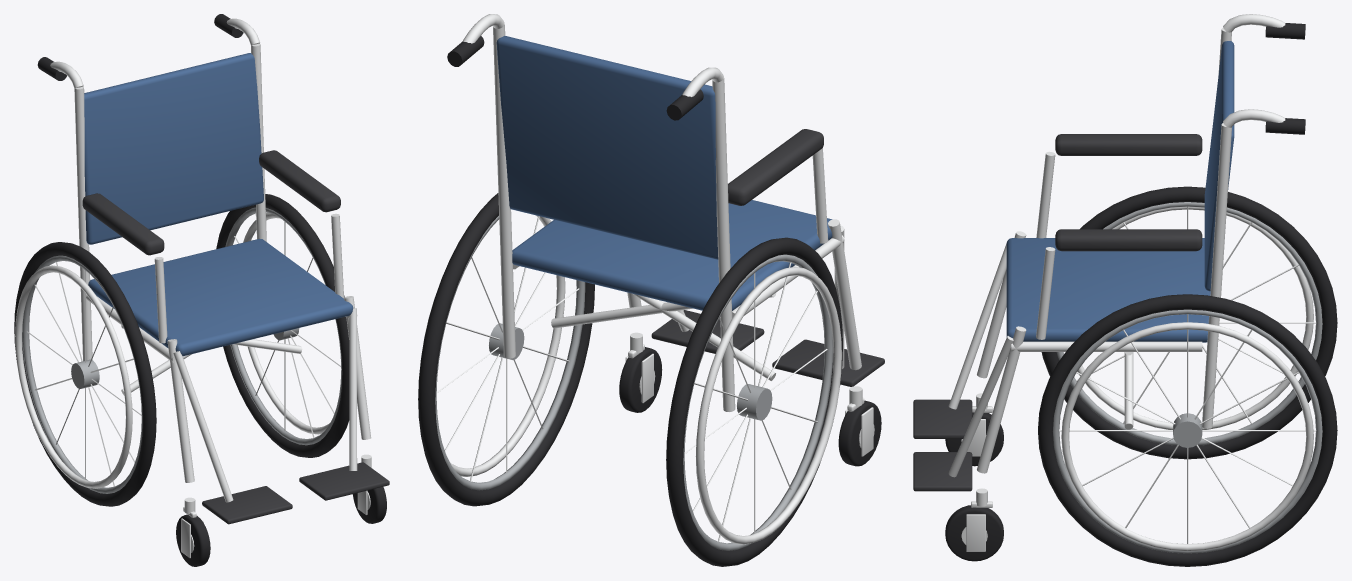
Rendered from fauteuil_roulant.glb.
The picture shows the model from 3 angles, left to right: view 1: azimuth 30°, elevation 25°; view 2: azimuth 150°, elevation 25°; view 3: azimuth 270°, elevation 25°; orthographic projection. The views are drawn at different scales.
Parts seen in each view (by area): view 1: fauteuil_roulant; view 2: fauteuil_roulant; view 3: fauteuil_roulant.
Part boxes in pixels (x1,y1,x2,y2): fauteuil_roulant: (14,14,389,566); fauteuil_roulant: (418,14,884,566); fauteuil_roulant: (913,14,1337,566).
Bounding box in the file's own units: 0.596 × 1.02 × 0.866.
